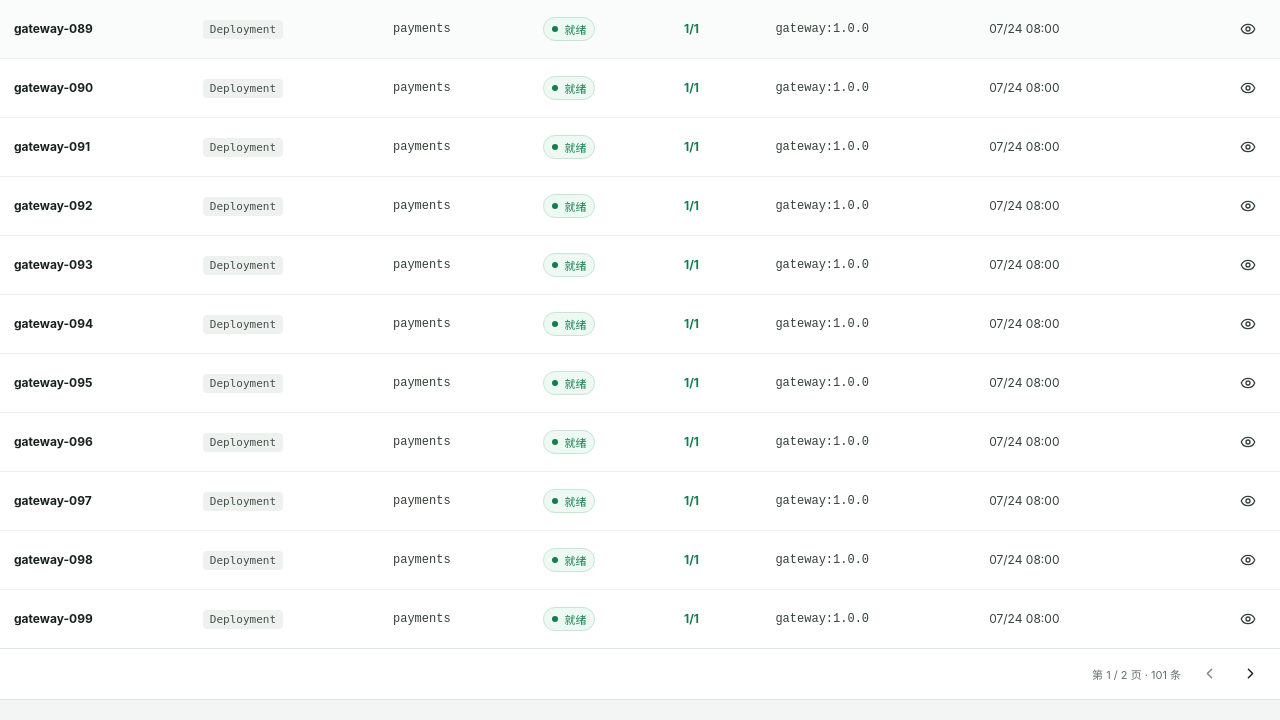
WorkloadsPage › paginates large results and avoids a redundant summary request
(page scrolled)
expect the text "gateway-100" is not shown: met
expect the text "第 1 / 2 页 · 101 条" is shown: met, box left=1092, top=666, right=1181, bottom=682
What coordinates should you click on to do the following:
click the button named "下一页"
I would click on:
 (1250, 674)
Its box is left=1232, top=656, right=1268, bottom=692.
(page scrolled)
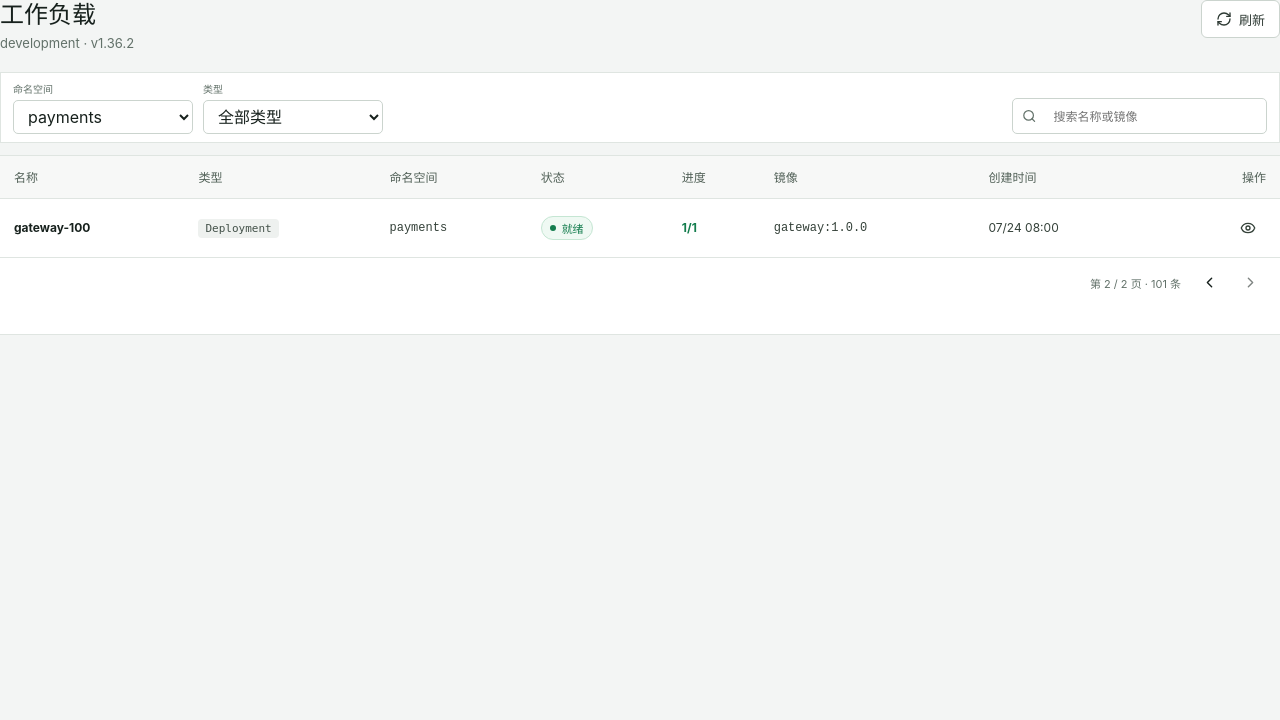
expect the text "gateway-100" is shown: met, box left=14, top=220, right=90, bottom=235
What coordinates should you click on to do the following:
click the button named "上一页"
I would click on:
 (1209, 282)
Its box is left=1191, top=264, right=1227, bottom=300.
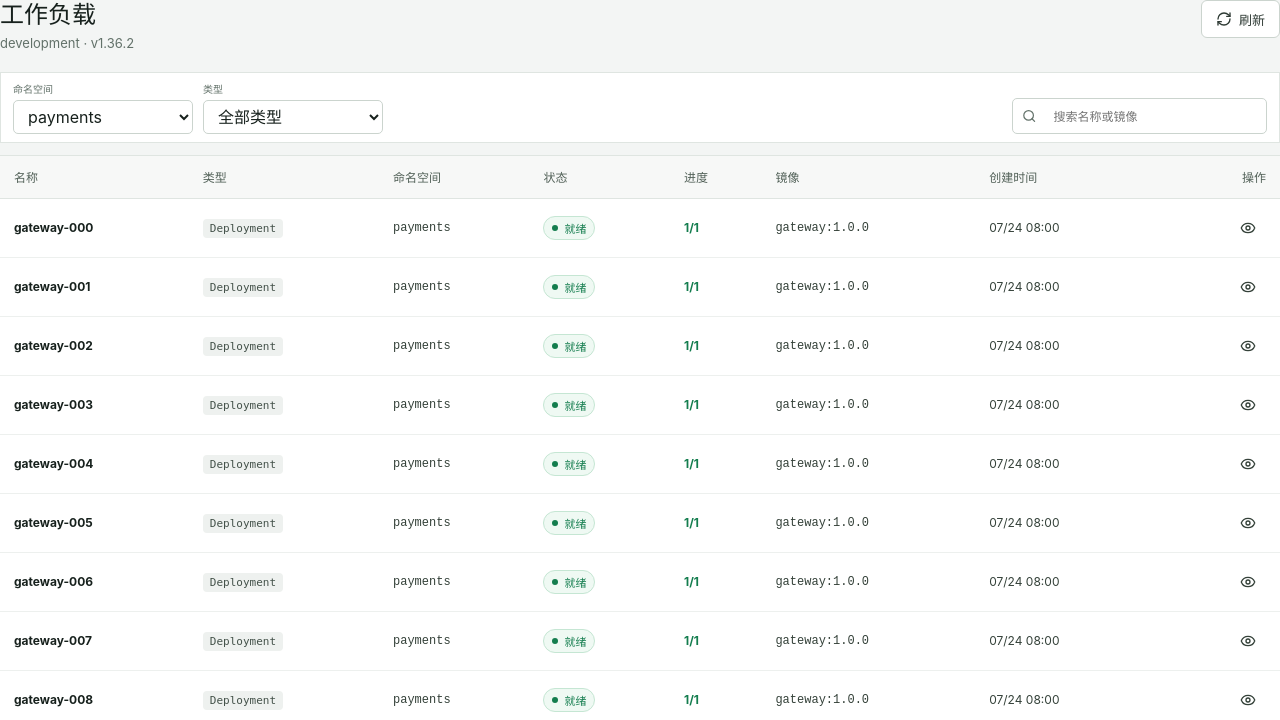
expect the text "gateway-000" is shown: met, box left=14, top=220, right=93, bottom=235
